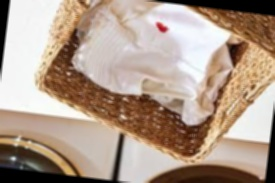blood: (153, 20, 170, 36)
